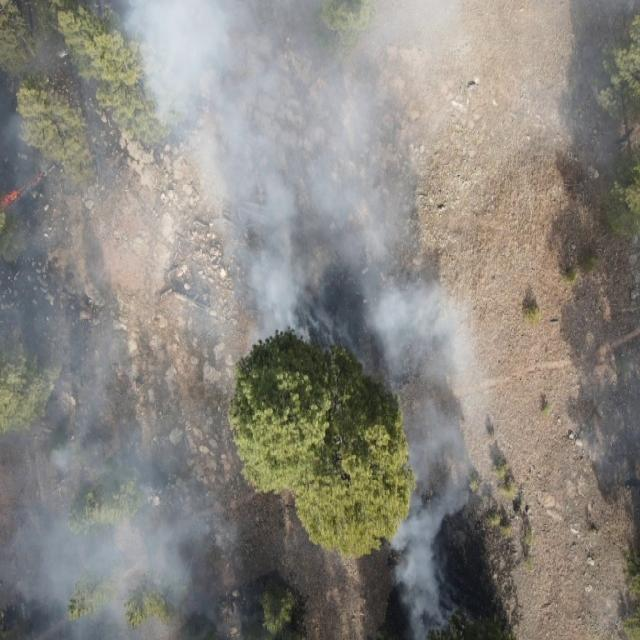fire: (0, 170, 47, 210)
smoke: (0, 0, 492, 640), (492, 0, 640, 174), (573, 351, 640, 485)
